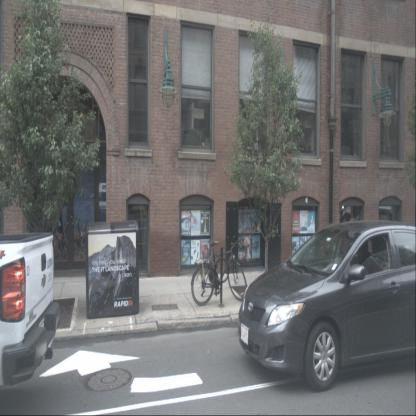vehicle-bicycle: (191, 240, 247, 306)
vehicle-car: (238, 219, 416, 393)
